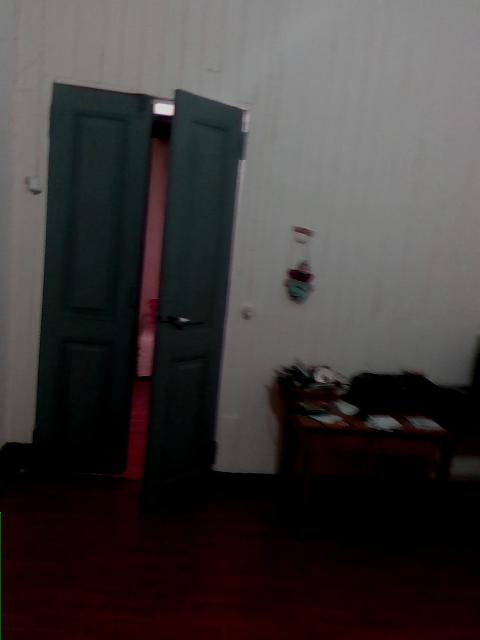semi_door: (30, 79, 247, 513)
